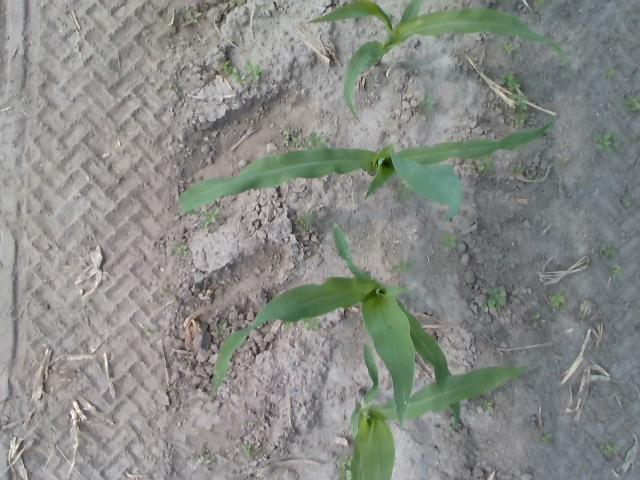Maize: (214, 222, 461, 435), (178, 120, 552, 220), (304, 0, 564, 121), (350, 343, 526, 480)
Weeds: (282, 128, 304, 148), (200, 206, 220, 228), (308, 132, 330, 150), (497, 72, 520, 89), (244, 61, 262, 82), (488, 286, 506, 306), (593, 132, 611, 150), (298, 211, 314, 231), (509, 94, 528, 110), (418, 94, 435, 110), (304, 318, 322, 332), (340, 456, 350, 480), (442, 233, 456, 249), (231, 68, 244, 85), (551, 290, 564, 307), (392, 260, 412, 271), (198, 454, 215, 466), (626, 98, 640, 112), (185, 12, 201, 24), (510, 164, 526, 176), (172, 244, 186, 256), (215, 322, 227, 336), (528, 314, 540, 328), (501, 41, 513, 53), (604, 246, 618, 256), (220, 59, 230, 72), (480, 299, 494, 308), (612, 266, 622, 278), (243, 444, 253, 456), (611, 136, 621, 148), (478, 164, 493, 172), (605, 69, 616, 79), (160, 284, 168, 297), (484, 400, 494, 410), (145, 328, 154, 339), (602, 444, 614, 452), (622, 197, 631, 207), (516, 114, 526, 123), (172, 296, 180, 306), (542, 434, 552, 442), (526, 171, 534, 180), (484, 156, 492, 164), (613, 446, 620, 454)
